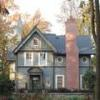chimneys: (66, 18, 80, 90)
